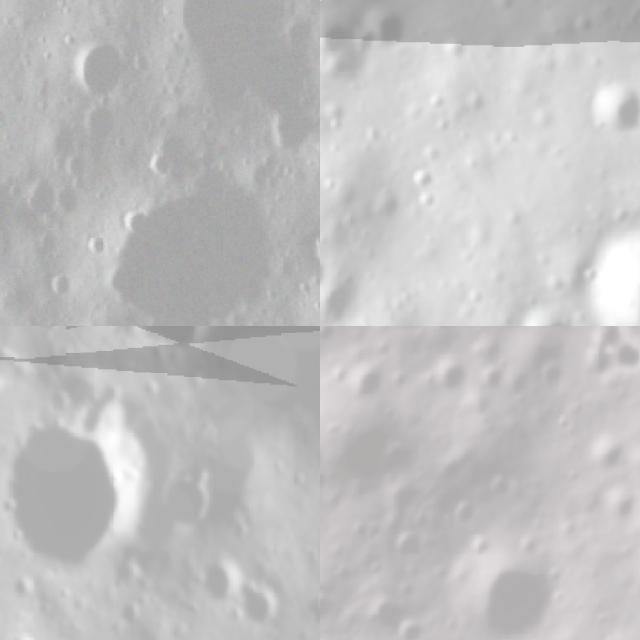crater: (77, 145, 309, 326), (0, 394, 138, 577), (132, 0, 316, 126), (438, 526, 583, 640), (53, 29, 139, 111), (579, 226, 640, 326), (333, 345, 401, 424), (341, 583, 429, 640), (90, 326, 219, 364), (0, 145, 35, 272), (159, 476, 214, 547), (583, 77, 640, 143), (425, 345, 483, 409), (578, 424, 636, 483), (320, 9, 362, 83), (30, 115, 84, 171), (288, 118, 320, 201), (386, 517, 436, 570), (443, 485, 491, 536), (192, 554, 238, 605), (320, 273, 362, 326), (46, 176, 90, 224), (470, 355, 515, 400), (238, 583, 280, 631), (368, 0, 406, 52), (532, 354, 576, 396), (140, 144, 178, 180), (515, 304, 573, 326), (46, 269, 78, 301), (408, 159, 439, 192), (83, 228, 110, 261), (308, 226, 320, 277), (423, 326, 463, 339), (320, 326, 340, 350), (320, 255, 331, 292)
